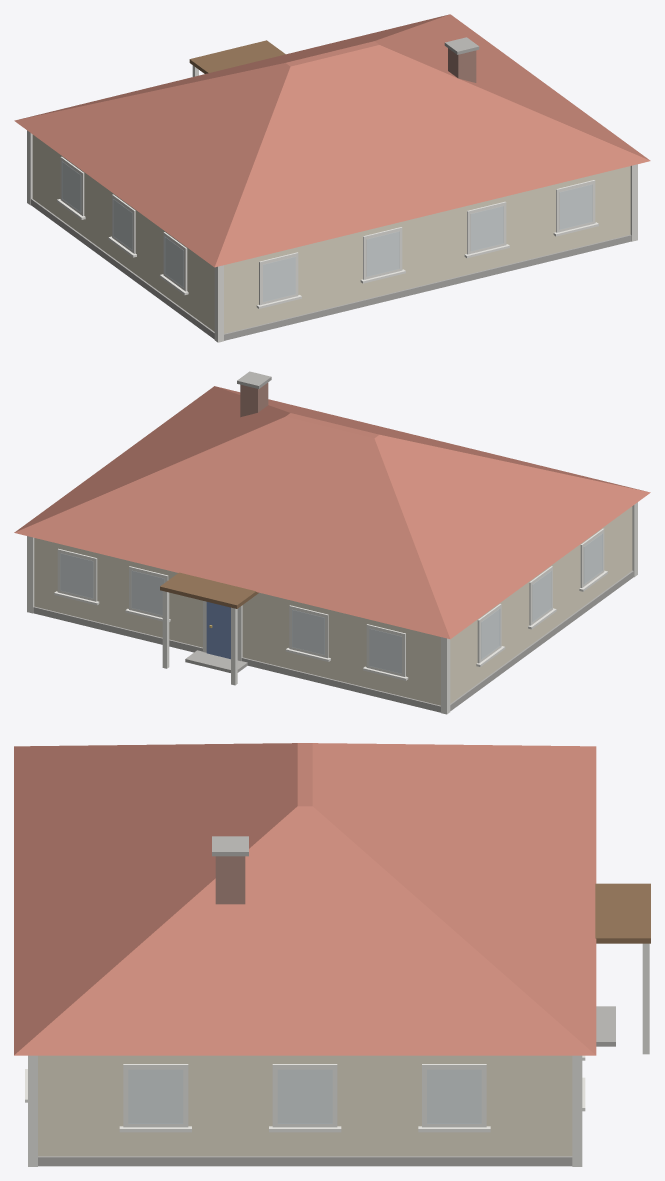
Rendered from house_medium_a.glb.
The picture shows the model from 3 angles, top to bottom: view 1: azimuth 30°, elevation 25°; view 2: azimuth 150°, elevation 25°; view 3: azimuth 270°, elevation 25°; orthographic projection. The views are drawn at different scales.
Visible parts, largest first — view 1: roof, body; view 2: roof, body; view 3: roof, body.
Boxes of the visible parts, <box> form: roof: <box>14,14,650,267</box>; body: <box>27,40,637,342</box>; roof: <box>14,371,650,639</box>; body: <box>27,502,637,714</box>; roof: <box>14,743,596,1055</box>; body: <box>25,883,650,1166</box>.
Size of the model in its own units: 14.7 by 5.49 by 12.8.
